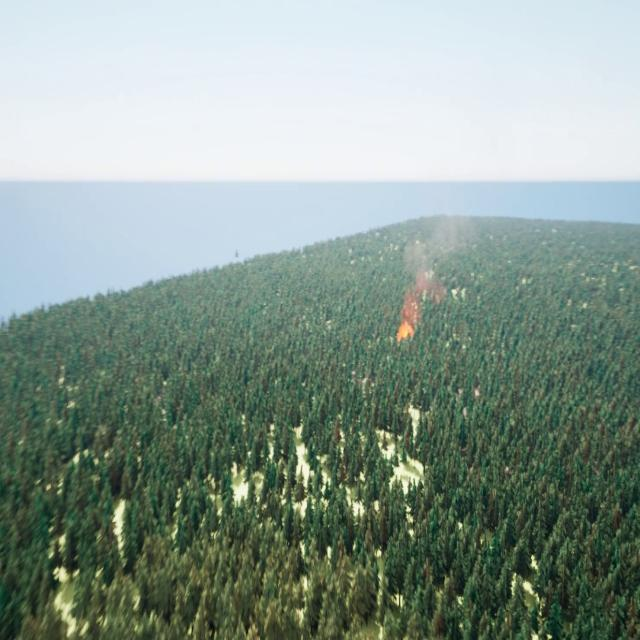fire: (396, 322, 412, 345)
smoke: (404, 219, 463, 324)
